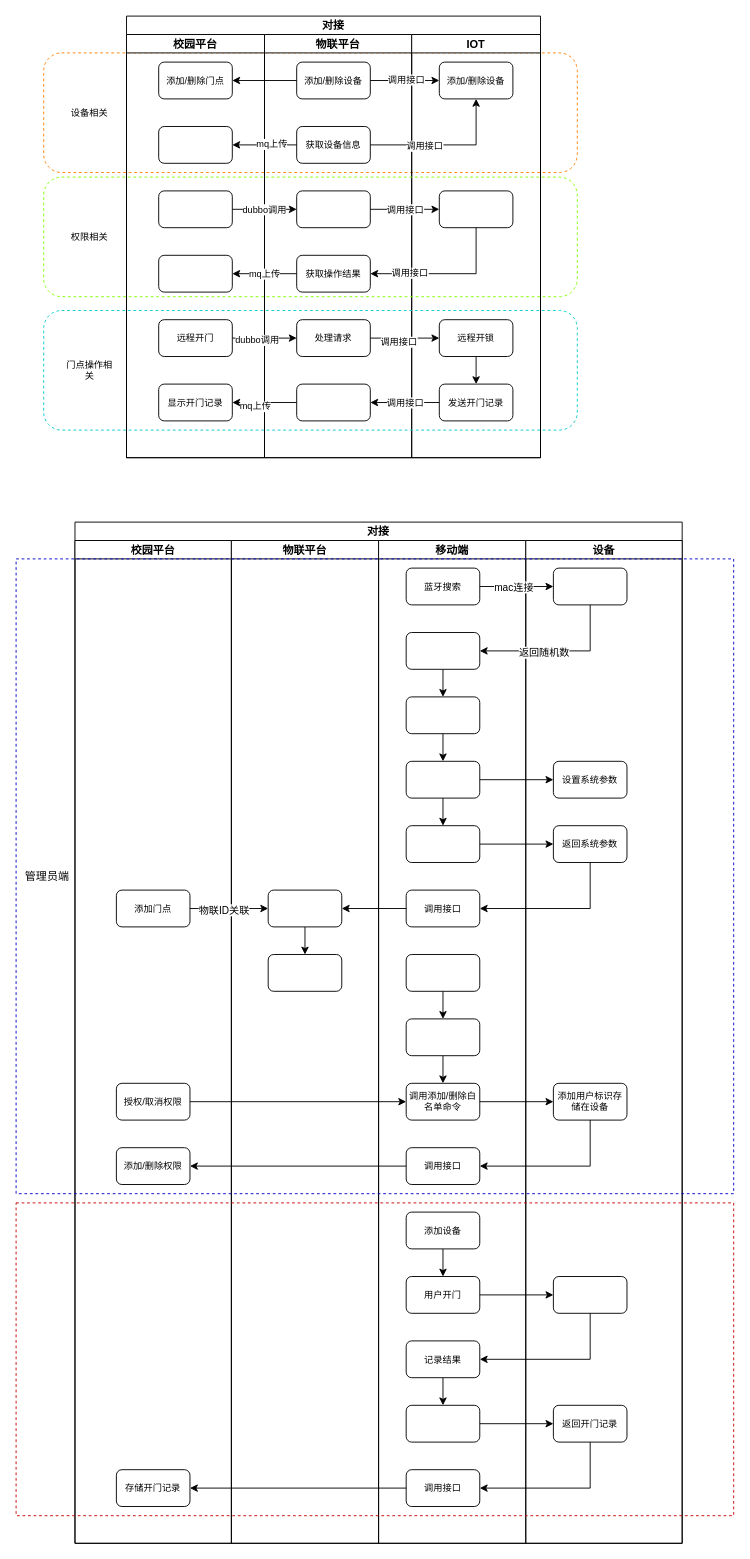
The diagram is 750 pixels wide and 1559 high, and some of its shapes have lost their labels. Here are the shapes that lost their labels. From the top down, the centre of each, then its label:
At point (195, 144): "显示门点状态".
At point (195, 209): "人员权限下发".
At point (333, 209): "处理权限下发".
At point (475, 209): "发卡/删卡".
At point (195, 273): "记录操作日志".
At point (333, 402): "处理开门记录".
At point (589, 586): "生成随机数".
At point (442, 650): "获取随机数".
At point (442, 715): "输入管理员密码".
At point (442, 779): "发送设置系统参数指令".
At point (442, 843): "查询设备信息".
At point (304, 908): "存储设备信息".
At point (304, 972): "显示设备信息".
At point (442, 972): "添加用户".
At point (442, 1037): "输入用户标识".
At point (589, 1294): "蓝牙开门".
At point (374, 1359): "用户端".
At point (442, 1423): "获取开门记录".
